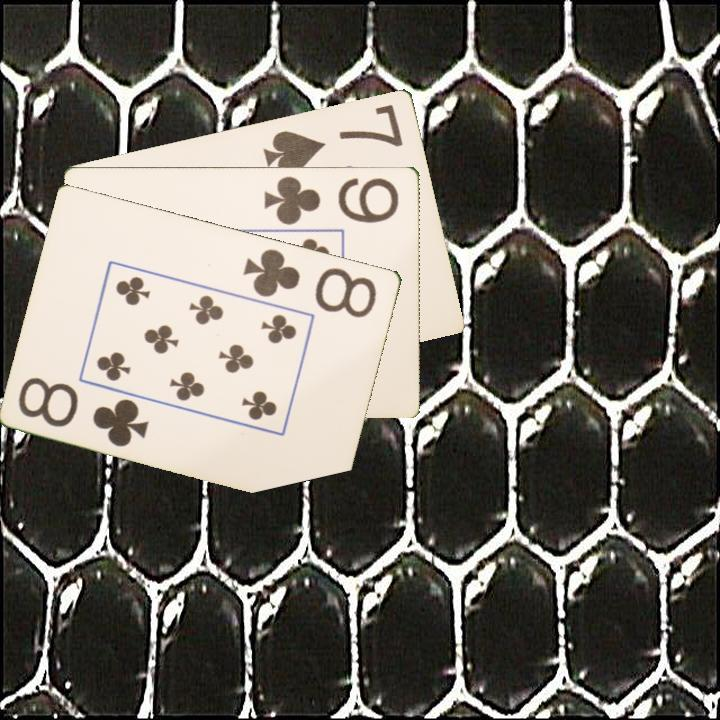7s: (259, 100, 406, 177)
8c: (240, 244, 380, 321), (15, 373, 152, 450)
9c: (260, 172, 402, 227)
